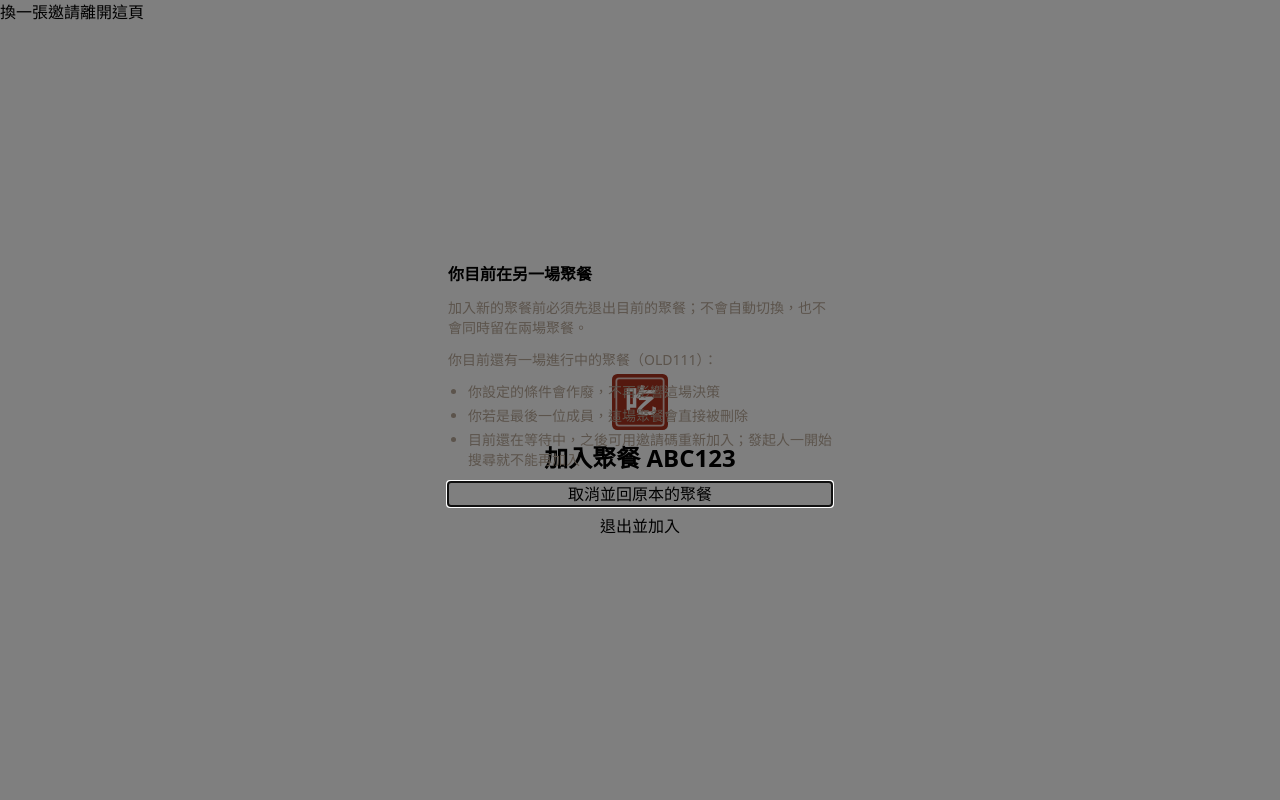
確認離房後才加入 › 還在別的房：開確認框、背景 inert，取消就回原房
Expected: the heading "你目前在另一場聚餐" is shown, [448,263,592,285]
Expected: the dialog shows "你目前還有一場進行中的聚餐（OLD111）", [448,262,832,538]
Click the button "取消並回原本的聚餐" at [640, 494], box [448,482,832,506]
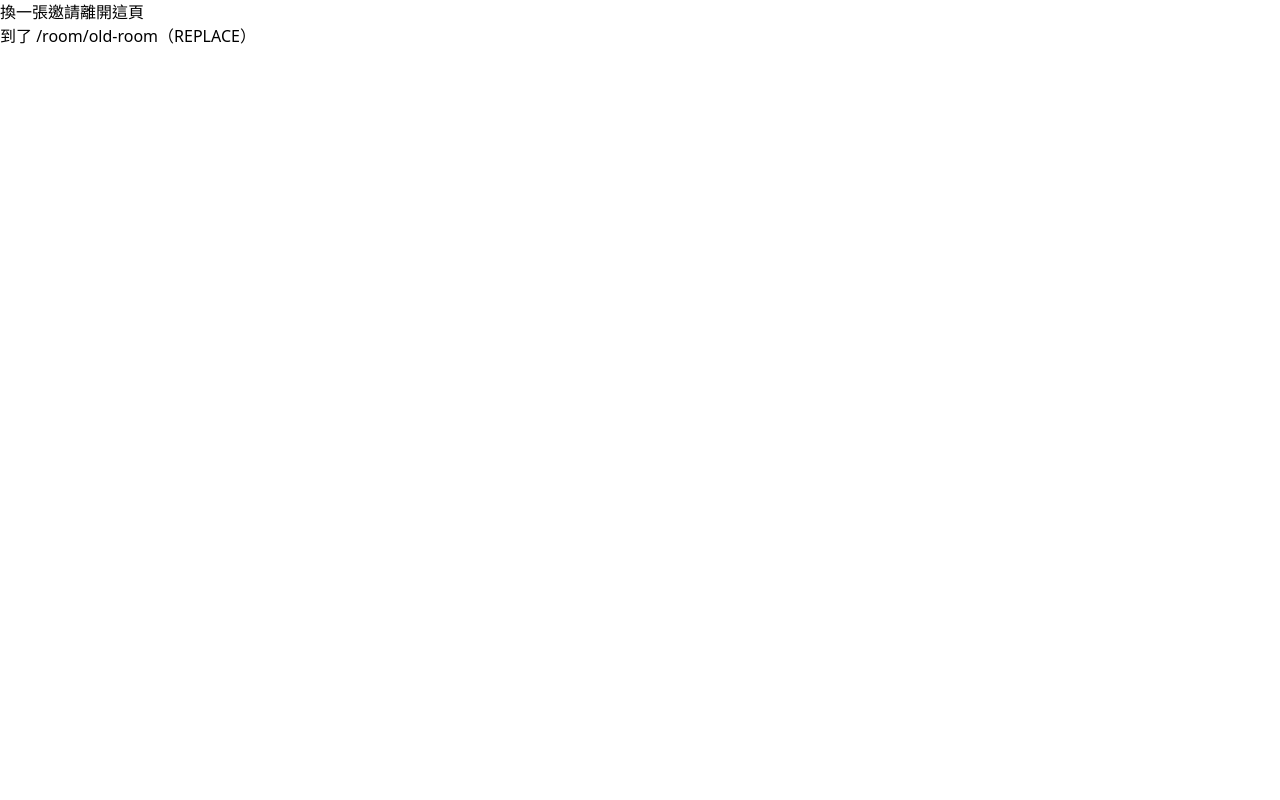
Now the text "到了 /room/old-room（REPLACE）" is shown, box [0,25,256,47]
